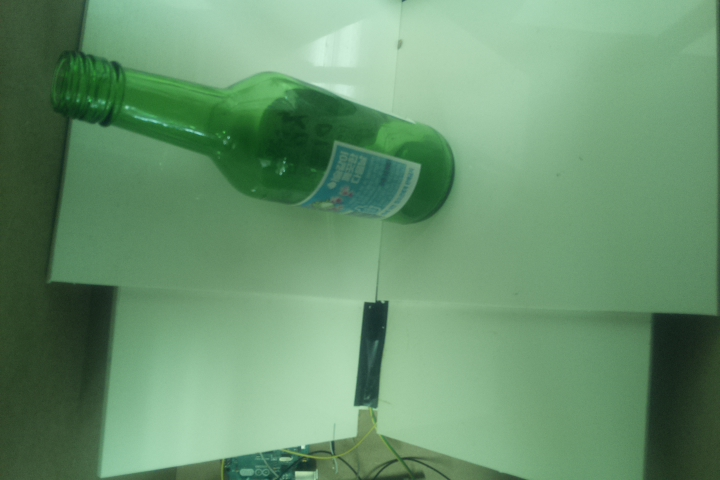soju: (50, 46, 457, 230)
